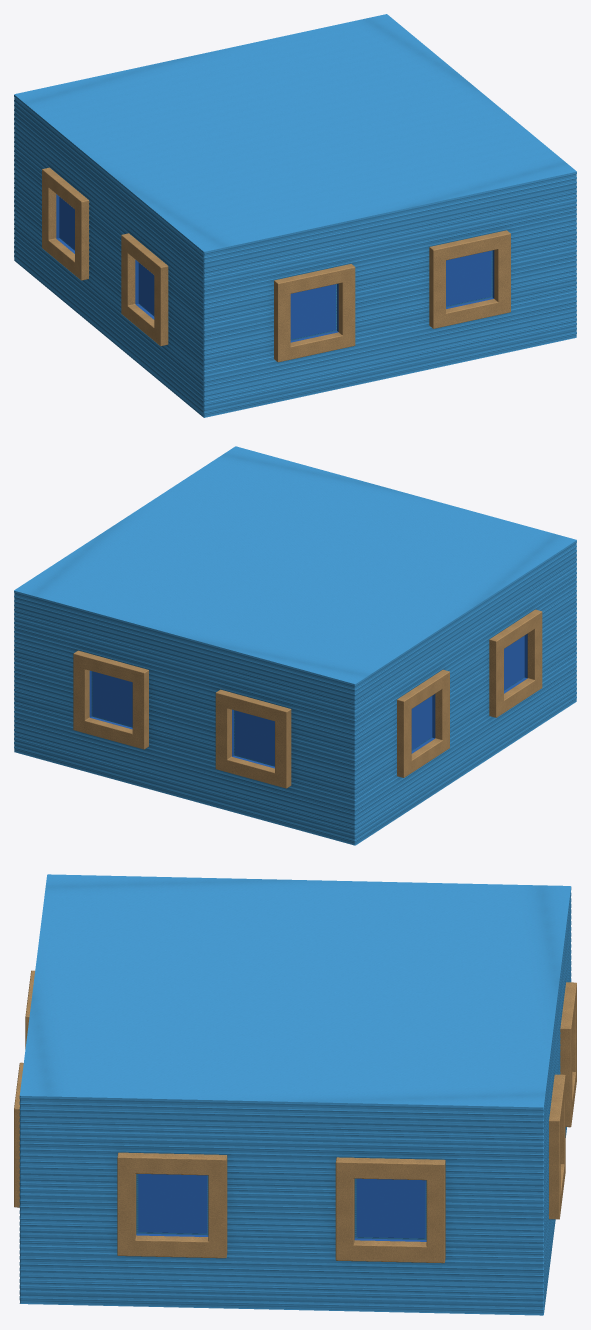
Rendered from 3-blue-pad.fbx.
The picture shows the model from 3 angles, top to bottom: view 1: azimuth 30°, elevation 25°; view 2: azimuth 150°, elevation 25°; view 3: azimuth 270°, elevation 25°; orthographic projection. The views are drawn at different scales.
Parts seen in each view (by area): view 1: blue-pad; view 2: blue-pad; view 3: blue-pad.
Boxes of the visible parts, bbox=[...] form: blue-pad: bbox=[14, 14, 576, 417]; blue-pad: bbox=[14, 446, 576, 845]; blue-pad: bbox=[14, 874, 576, 1315].
Size of the model in its own units: 7724 by 3150 by 7724.
1 material, 1 textured.
